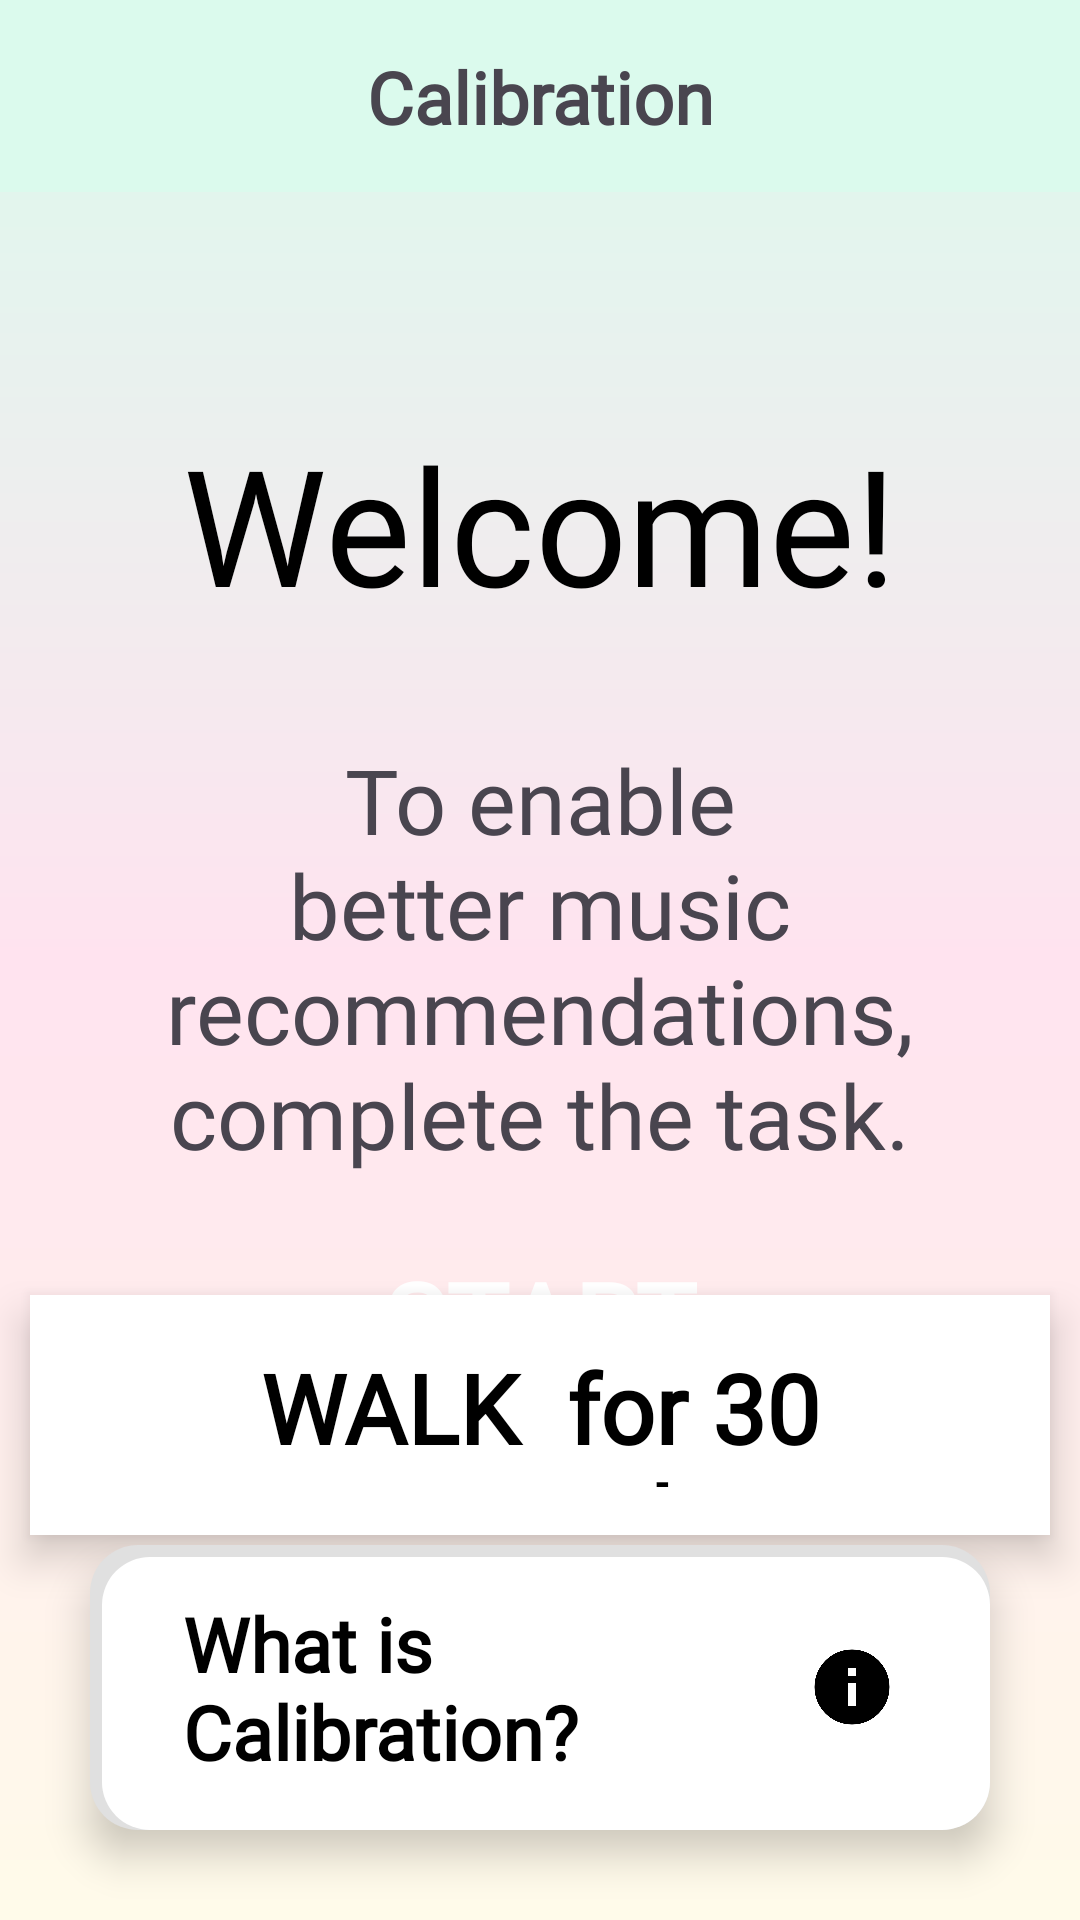

Screen size 1080 x 1920. Icon name, then its box in pixels as (x1, y1, x2, y2):
Info Icon: (814, 1649, 890, 1725)
